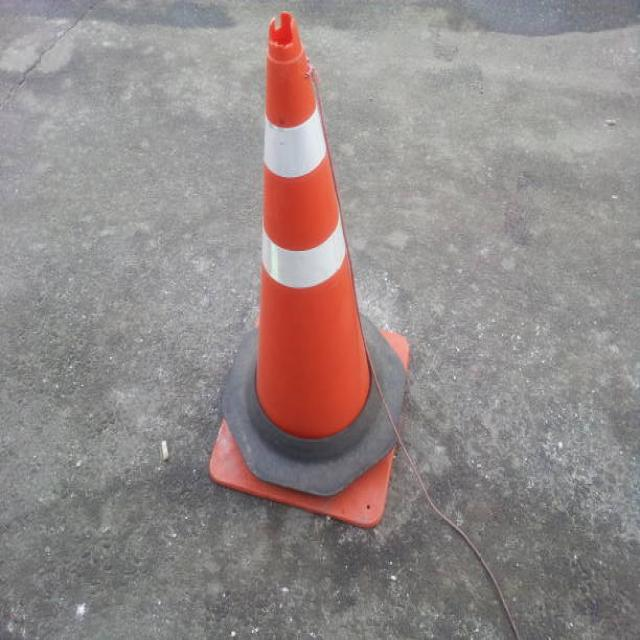Traffic Cone: (168, 0, 442, 563)
